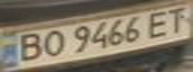4: (90, 19, 112, 51)
6: (121, 12, 151, 44), (106, 17, 130, 47)
9: (66, 24, 93, 55)
B: (9, 30, 48, 63)
E: (142, 8, 178, 39)
O: (36, 28, 69, 58)
T: (160, 5, 193, 35)
